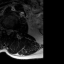CCS_normal: (7, 26, 10, 37)
LFS_stenosis: (12, 26, 15, 34)
LLS_normal: (10, 26, 12, 35)
RFS_stenosis: (2, 24, 5, 31)
RLS_normal: (5, 25, 7, 35)
